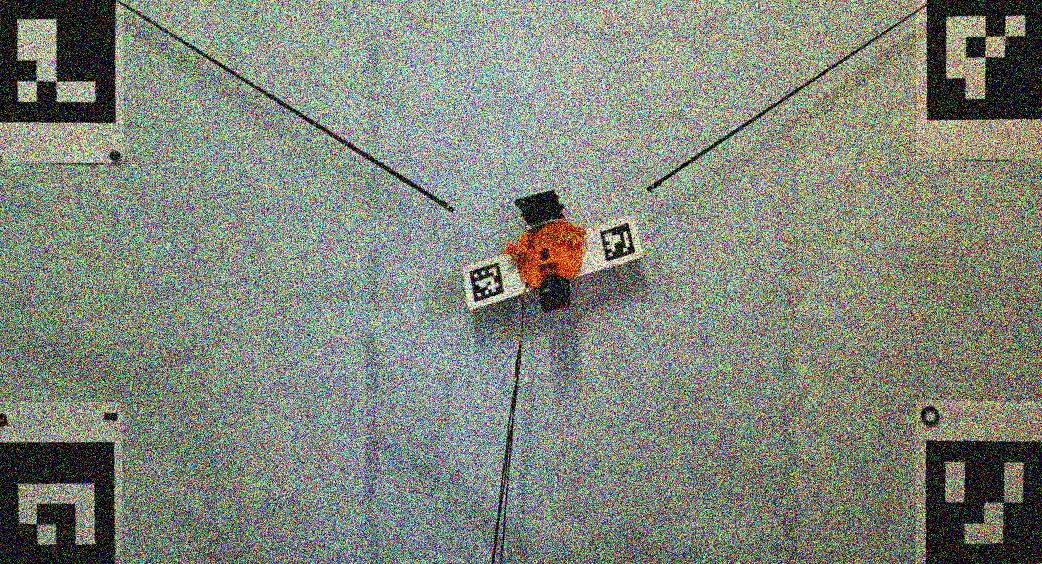robot: (505, 188, 588, 313)
